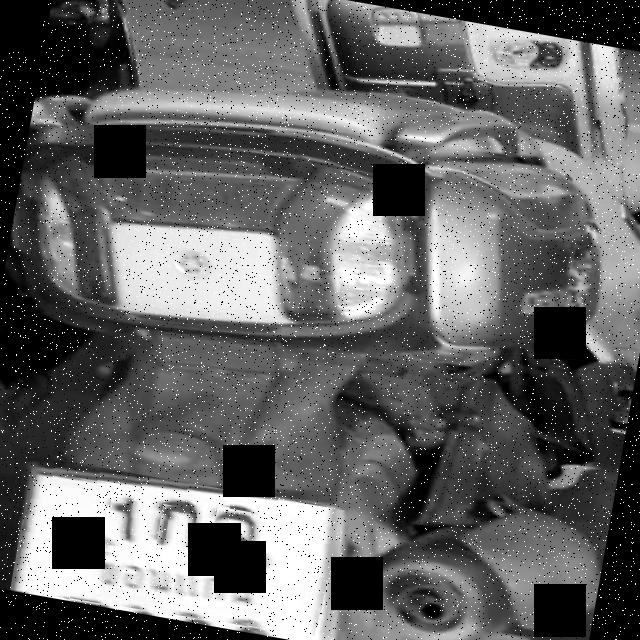letters: (208, 505, 272, 562), (101, 488, 148, 550), (154, 504, 198, 554)
license-plate: (13, 467, 340, 639)
province: (86, 548, 280, 616)
